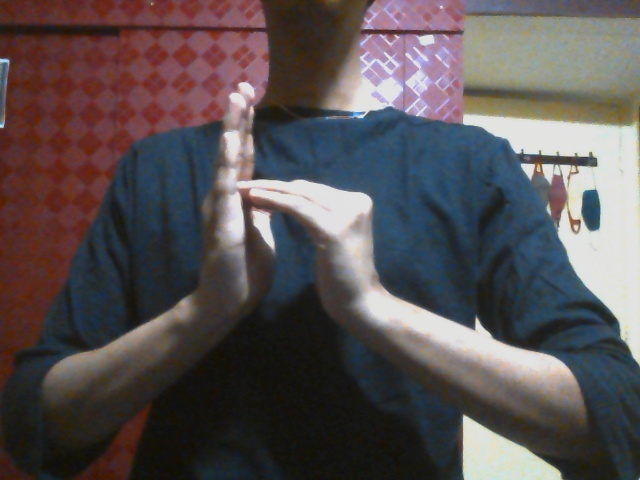Z: (162, 82, 402, 349)
